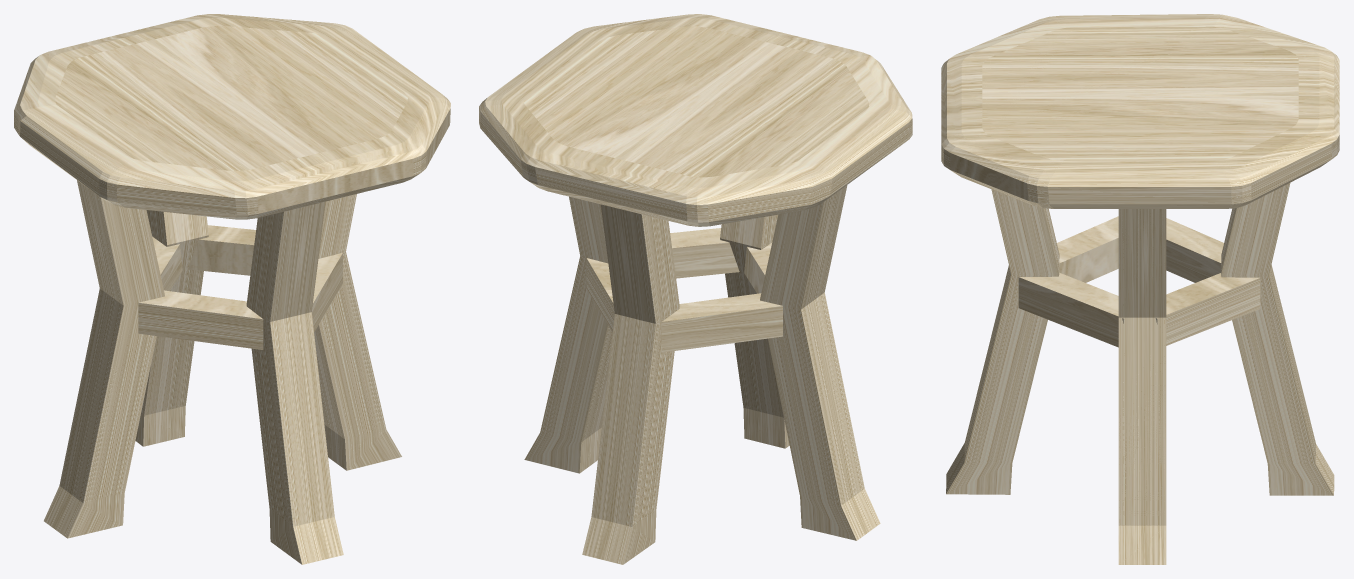
Rendered from conquest-stool.fbx.
3 renders of one model, left to right at view 1: azimuth 30°, elevation 25°; view 2: azimuth 150°, elevation 25°; view 3: azimuth 270°, elevation 25°, orthographic.
Parts seen in each view (by area): view 1: Cube.002, Cube, Cube.003; view 2: Cube.002, Cube, Cube.003; view 3: Cube.002, Cube.003, Cube.
Boxes of the visible parts, x1,y1,x2,y2 form: Cube.002: (14, 14, 450, 564); Cube: (44, 181, 401, 538); Cube.003: (138, 225, 342, 349); Cube.002: (479, 14, 912, 564); Cube: (524, 186, 880, 540); Cube.003: (586, 228, 782, 352); Cube.002: (941, 14, 1339, 519); Cube.003: (1018, 216, 1269, 347); Cube: (1118, 209, 1166, 564).
Size of the model in its own units: 49.98 by 54.14 by 49.77.
